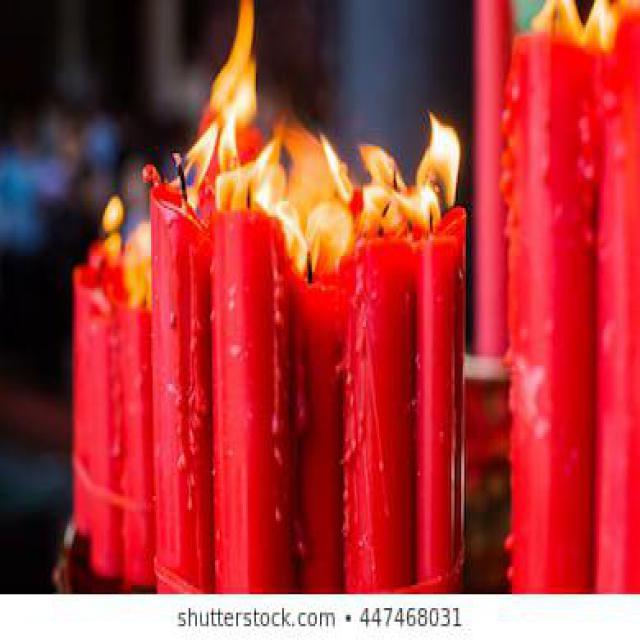Fire: (174, 0, 460, 272), (531, 0, 639, 42)
